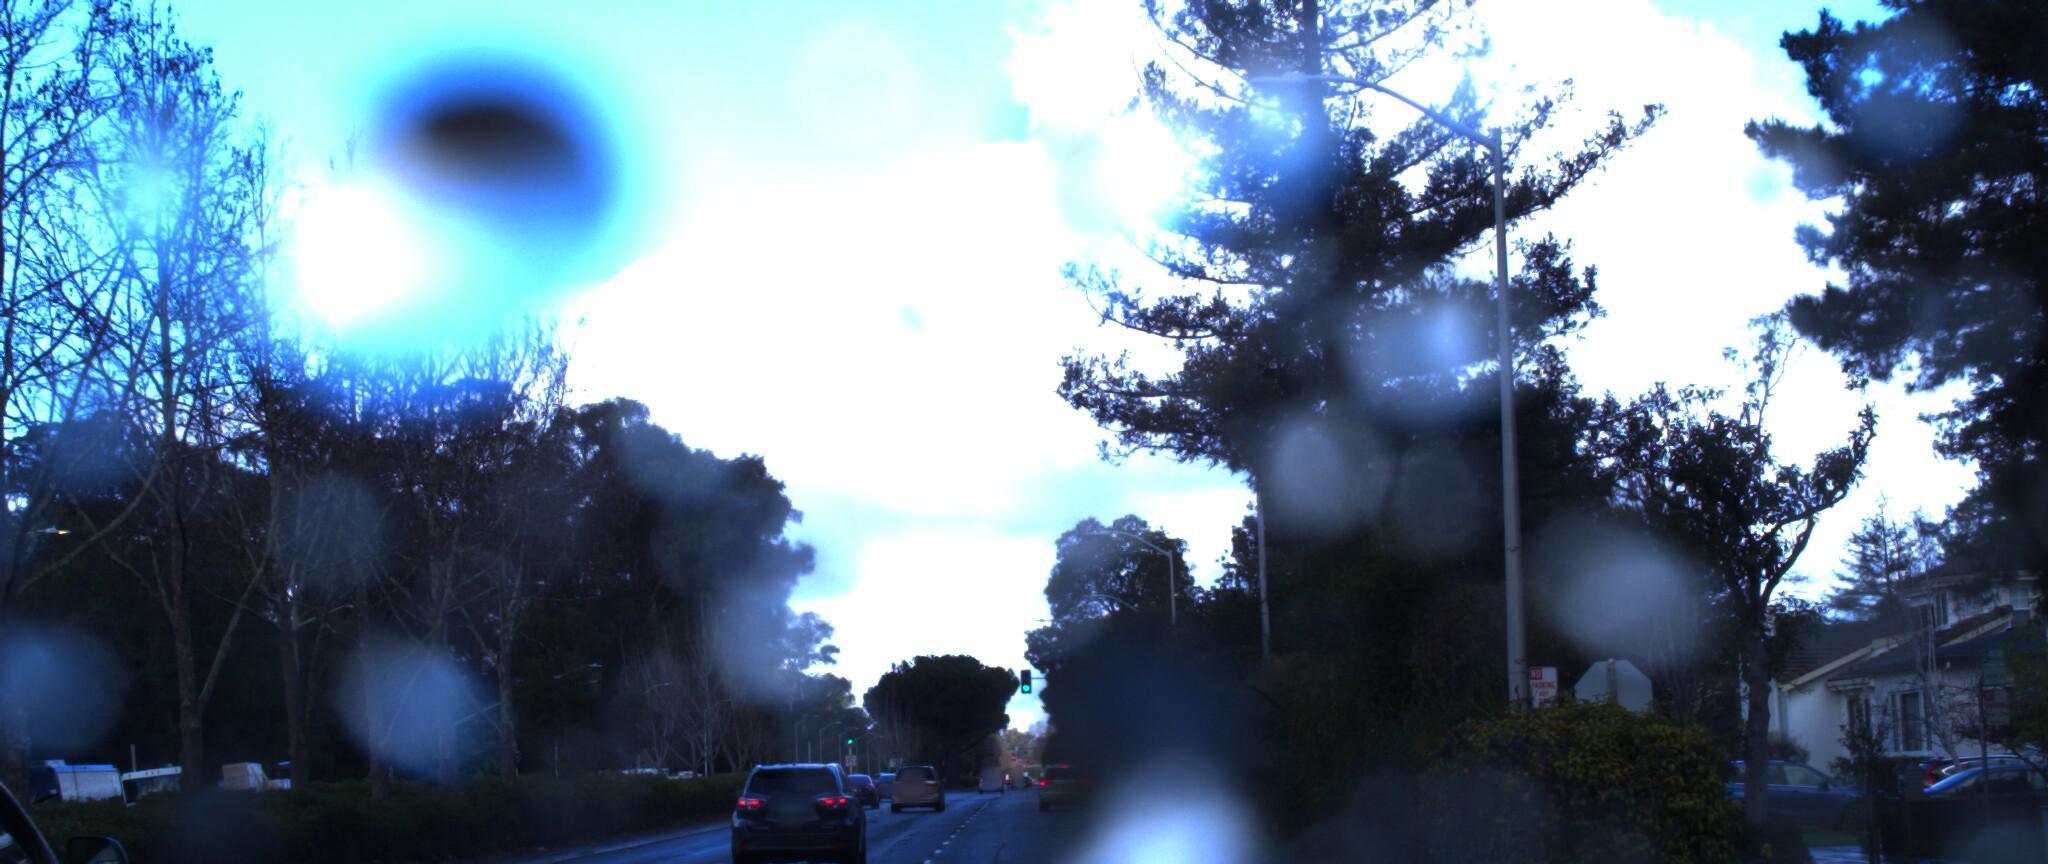car: (0, 687, 257, 864), (717, 735, 874, 861)
